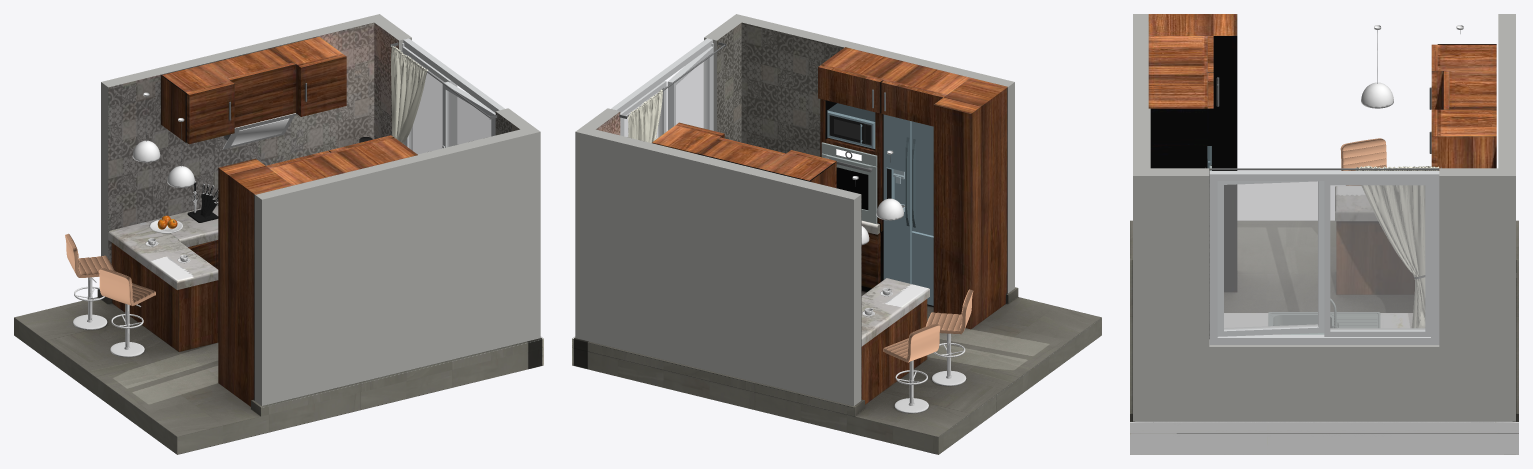
File: cocina28b.gltf
The picture shows the model from 3 angles, left to right: view 1: azimuth 30°, elevation 25°; view 2: azimuth 150°, elevation 25°; view 3: azimuth 270°, elevation 25°; orthographic projection. The views are drawn at different scales.
Visible parts, largest first — view 1: Muros, muebles, Piso, Azulejo, Formica, Puerta_1_6, Cortina, Puerta_1_7, asiento.001, asiento, Marco, Box035 (+6 smaller); view 2: Muros, muebles, Piso, Azulejo, refri, Puerta_1_6, Formica, Microwave_Oven, Cube_3, asiento, Cortina, asiento.001 (+7 smaller); view 3: Muros, muebles, Piso, Puerta_1_7, Puerta_1_6, Cortina, Marco, Marco_2, Formica, Charola, asiento.001, Luminaria (+1 smaller).
Boxes of the visible parts, <box> form: Muros: <box>101,14,540,405</box>; muebles: <box>111,36,417,406</box>; Piso: <box>14,287,543,454</box>; Azulejo: <box>108,22,519,400</box>; Formica: <box>108,204,218,289</box>; Puerta_1_6: <box>442,81,495,148</box>; Cortina: <box>390,45,427,143</box>; Puerta_1_7: <box>402,43,451,154</box>; asiento.001: <box>99,267,155,305</box>; asiento: <box>65,233,114,277</box>; Marco: <box>451,74,504,145</box>; Box035: <box>231,118,289,145</box>; Muros: <box>575,14,1014,405</box>; muebles: <box>652,47,1007,404</box>; Piso: <box>572,287,1101,454</box>; Azulejo: <box>596,22,1007,400</box>; refri: <box>883,114,933,305</box>; Puerta_1_6: <box>667,43,713,130</box>; Formica: <box>861,220,929,346</box>; Microwave_Oven: <box>827,103,875,149</box>; Cube_3: <box>821,142,877,223</box>; asiento: <box>883,323,940,362</box>; Cortina: <box>628,89,662,142</box>; asiento.001: <box>925,289,973,334</box>; Muros: <box>1133,14,1515,421</box>; muebles: <box>1148,14,1496,294</box>; Piso: <box>1130,220,1518,454</box>; Puerta_1_7: <box>1324,181,1430,336</box>; Puerta_1_6: <box>1217,181,1324,336</box>; Cortina: <box>1355,165,1439,327</box>; Marco: <box>1209,171,1324,344</box>; Marco_2: <box>1324,171,1439,344</box>; Formica: <box>1224,186,1412,327</box>; Charola: <box>1268,312,1379,334</box>; asiento.001: <box>1340,138,1386,185</box>; Luminaria: <box>1361,25,1393,108</box>.
Bounding box in the file's own units: 4.28 × 2.6 × 3.3.
Materials: 54 (9 with a texture image).
